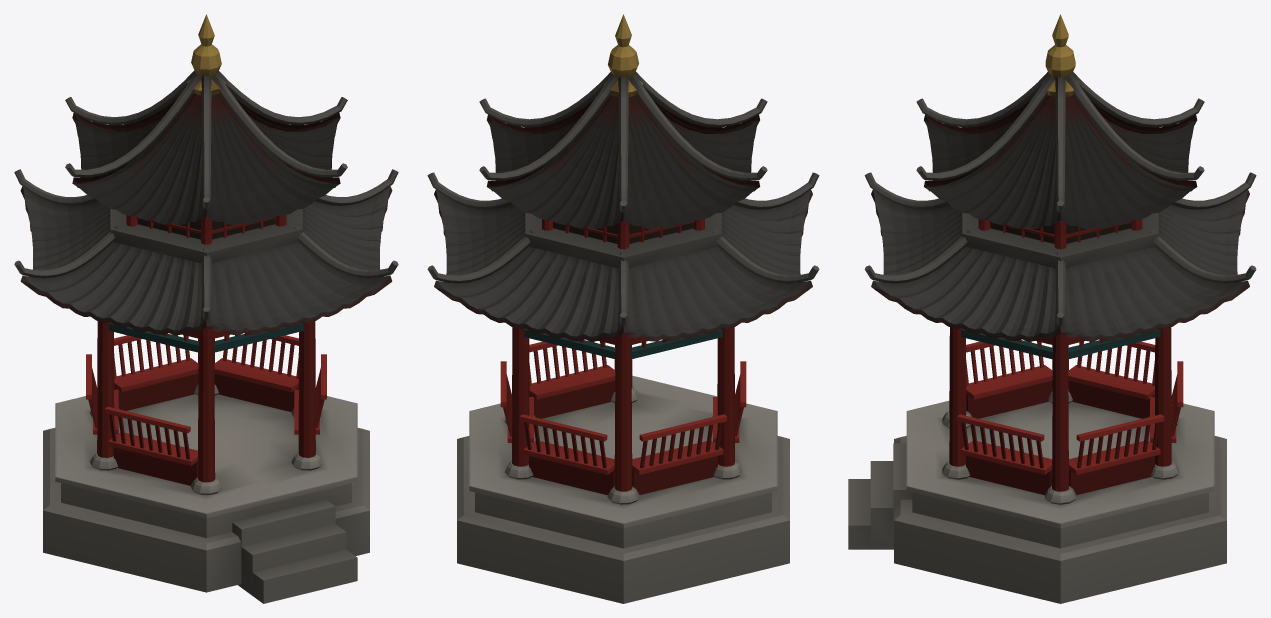
File: pavilion.glb
The picture shows the model from 3 angles, left to right: view 1: azimuth 30°, elevation 25°; view 2: azimuth 150°, elevation 25°; view 3: azimuth 270°, elevation 25°; orthographic projection.
Parts seen in each view (by area): view 1: pavilion; view 2: pavilion; view 3: pavilion.
Part boxes in pixels (x1=…): pavilion: x1=14, y1=14, x2=398, y2=603; pavilion: x1=427, y1=14, x2=819, y2=603; pavilion: x1=848, y1=14, x2=1256, y2=603.
Size of the model in its own units: 3.42 by 4.29 by 3.1.
